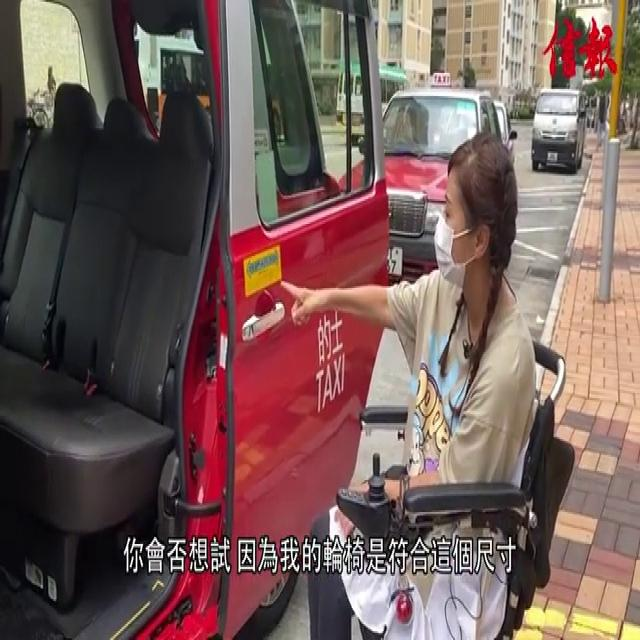wheelchairs: (337, 297, 584, 640)
